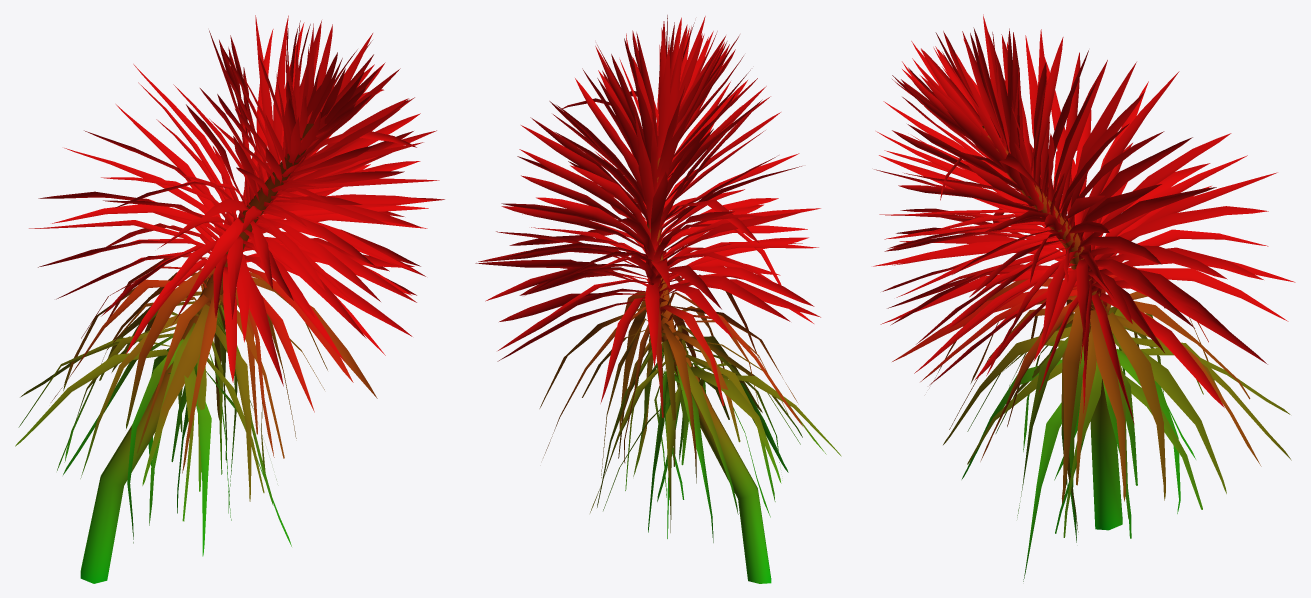
File: Var5_LOD4.fbx
3 renders of one model, left to right at view 1: azimuth 30°, elevation 25°; view 2: azimuth 150°, elevation 25°; view 3: azimuth 270°, elevation 25°, orthographic. The views are drawn at different scales.
Parts seen in each view (by area): view 1: _5igg_Var5_LOD4; view 2: _5igg_Var5_LOD4; view 3: _5igg_Var5_LOD4.
Part boxes in pixels (x1=…): _5igg_Var5_LOD4: x1=15, y1=15, x2=444, y2=583; _5igg_Var5_LOD4: x1=475, y1=15, x2=841, y2=583; _5igg_Var5_LOD4: x1=873, y1=14, x2=1295, y2=581.
Bounding box in the file's own units: 103 × 140 × 92.94.
